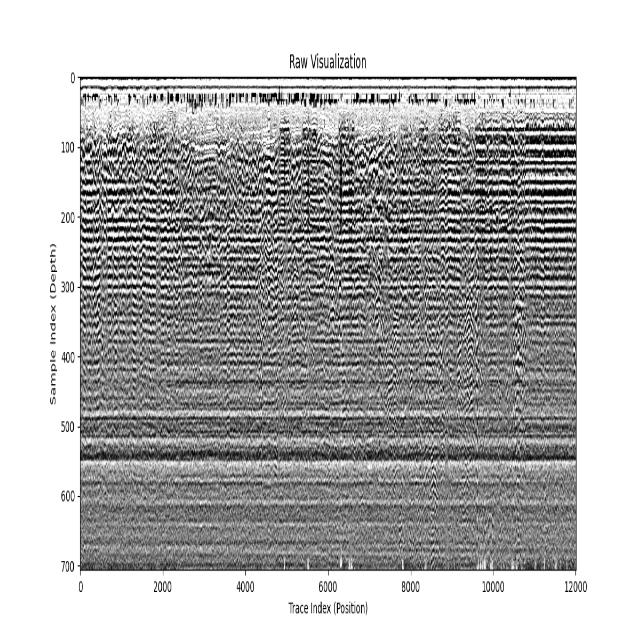anomaly: (280, 246, 314, 456), (388, 248, 422, 444), (354, 243, 384, 436), (318, 243, 348, 426), (458, 260, 484, 428), (506, 262, 530, 430), (440, 142, 462, 251)
